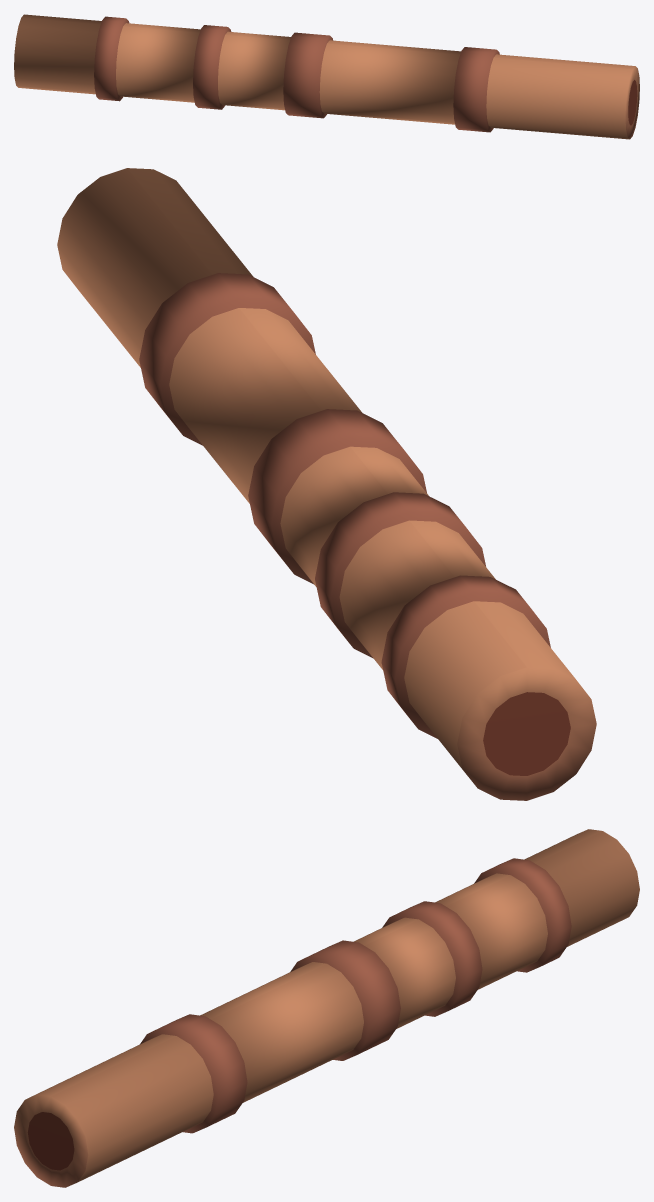
Rendered from RolledCarpet01.fbx.
The picture shows the model from 3 angles, top to bottom: view 1: azimuth 30°, elevation 25°; view 2: azimuth 150°, elevation 25°; view 3: azimuth 270°, elevation 25°; orthographic projection. The views are drawn at different scales.
Visible parts, largest first — view 1: RolledCarpet01; view 2: RolledCarpet01; view 3: RolledCarpet01.
Boxes of the visible parts, bbox=[...] form: RolledCarpet01: bbox=[14, 14, 639, 139]; RolledCarpet01: bbox=[57, 168, 596, 800]; RolledCarpet01: bbox=[14, 829, 639, 1187].
Size of the model in its own units: 0.909 by 0.1463 by 0.8207.
Materials: 1 (1 with a texture image).
